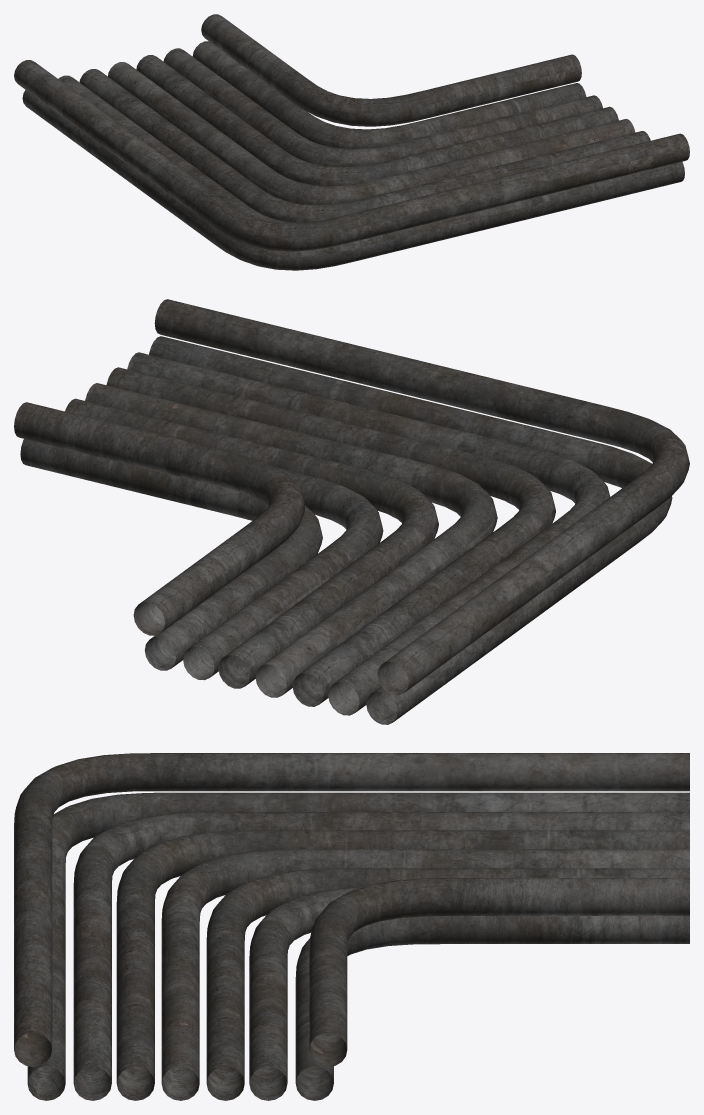
File: Pipes_Corner.glb
3 views of the same model, one above another, from view 1: azimuth 30°, elevation 25°; view 2: azimuth 150°, elevation 25°; view 3: azimuth 270°, elevation 25° (orthographic). The views are drawn at different scales.
Parts seen in each view (by area): view 1: Pipes_Corner; view 2: Pipes_Corner; view 3: Pipes_Corner.
Boxes of the visible parts, x1,y1,x2,y2 form: Pipes_Corner: (14, 14, 689, 270); Pipes_Corner: (14, 299, 689, 724); Pipes_Corner: (14, 753, 689, 1100).
Size of the model in its own units: 2.65 by 0.2967 by 2.65.
1 material, 1 textured.
